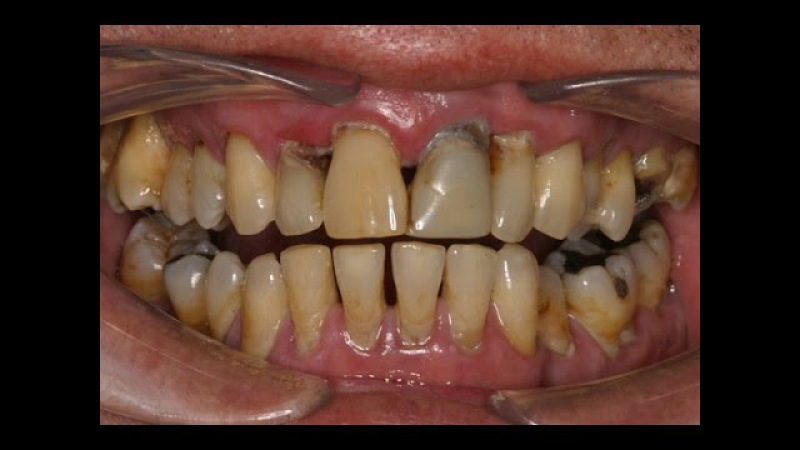LL1BC_decay: (537, 264, 568, 349)
LL1M_decay: (626, 225, 673, 308)
LL2BC_decay: (570, 261, 632, 343)
LLCI_healthy: (392, 243, 444, 323)
LLC_healthy: (495, 246, 538, 352)
LLLI_decay: (447, 243, 495, 349)
LR1BC_healthy: (206, 252, 241, 330)
LR1M_decay: (126, 224, 168, 293)
LR2BC_decay: (165, 244, 207, 318)
LRCI_healthy: (332, 243, 387, 328)
LRC_healthy: (244, 252, 281, 340)
LRLI_healthy: (281, 245, 332, 334)
UL1BC_decay: (587, 145, 635, 241)
UL1M_decay: (668, 146, 696, 211)
UL2BC_decay: (637, 150, 669, 212)
ULCI_decay: (409, 124, 492, 238)
ULC_healthy: (537, 142, 583, 238)
ULLI_decay: (492, 128, 536, 241)
UR1BC_decay: (186, 140, 225, 229)
UR1M_decay: (114, 120, 164, 209)
UR2BC_decay: (162, 141, 190, 224)
URCI_decay: (323, 120, 405, 237)
URC_healthy: (225, 132, 271, 234)
URLI_decay: (273, 143, 324, 234)
